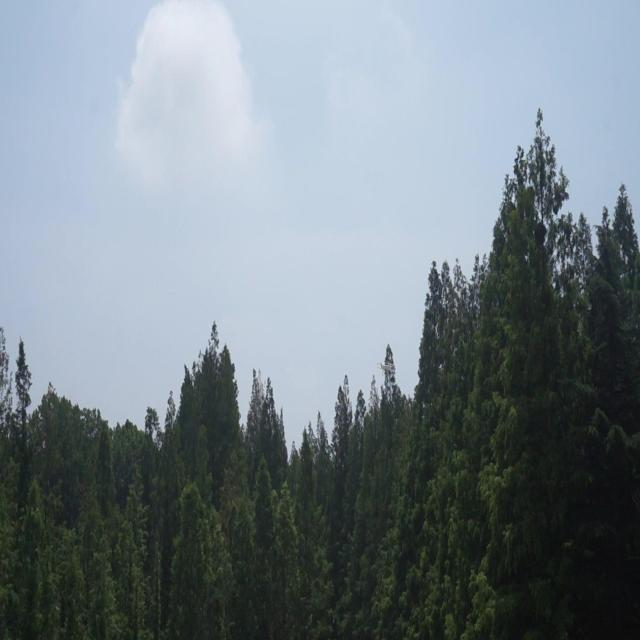drone: (377, 356, 394, 377)
